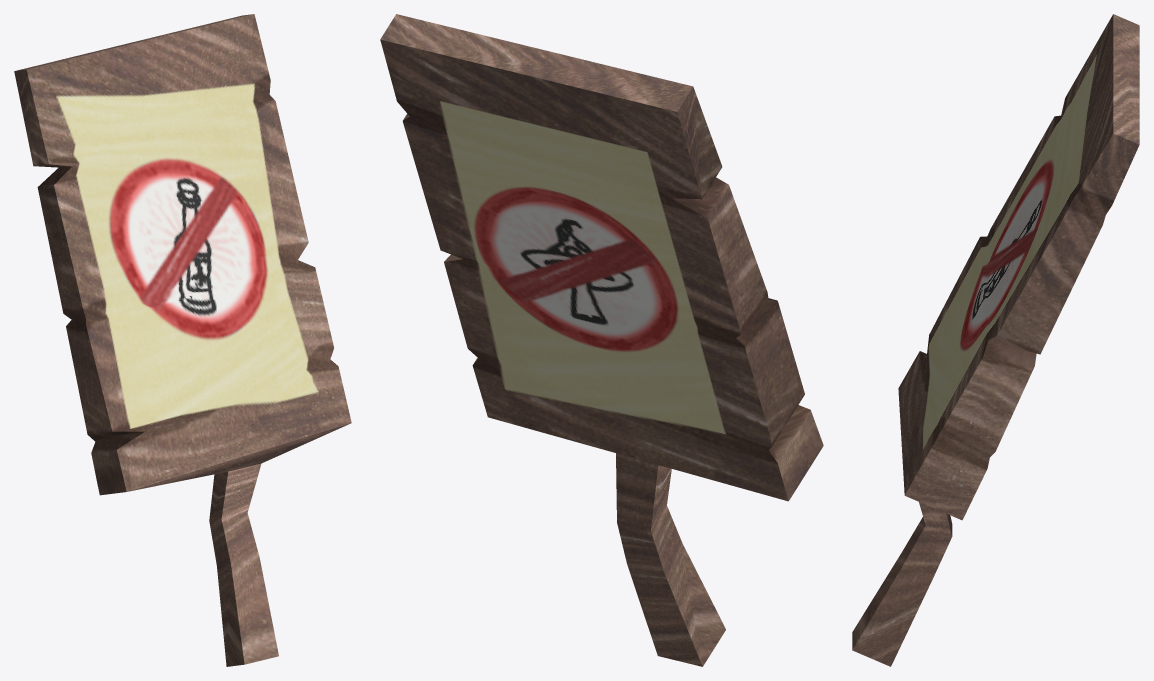
The model's file is panneau.FBX.
3 renders of one model, left to right at view 1: azimuth 30°, elevation 25°; view 2: azimuth 150°, elevation 25°; view 3: azimuth 270°, elevation 25°, orthographic. The views are drawn at different scales.
Visible parts, largest first — view 1: pCube1; view 2: pCube1; view 3: pCube1.
Part boxes in pixels (x1,y1,x2,y2): pCube1: [14, 14, 351, 666]; pCube1: [380, 14, 823, 666]; pCube1: [852, 14, 1139, 666].
Size of the model in its own units: 280 by 631 by 281.
